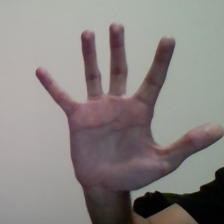left: (27, 20, 224, 188)
